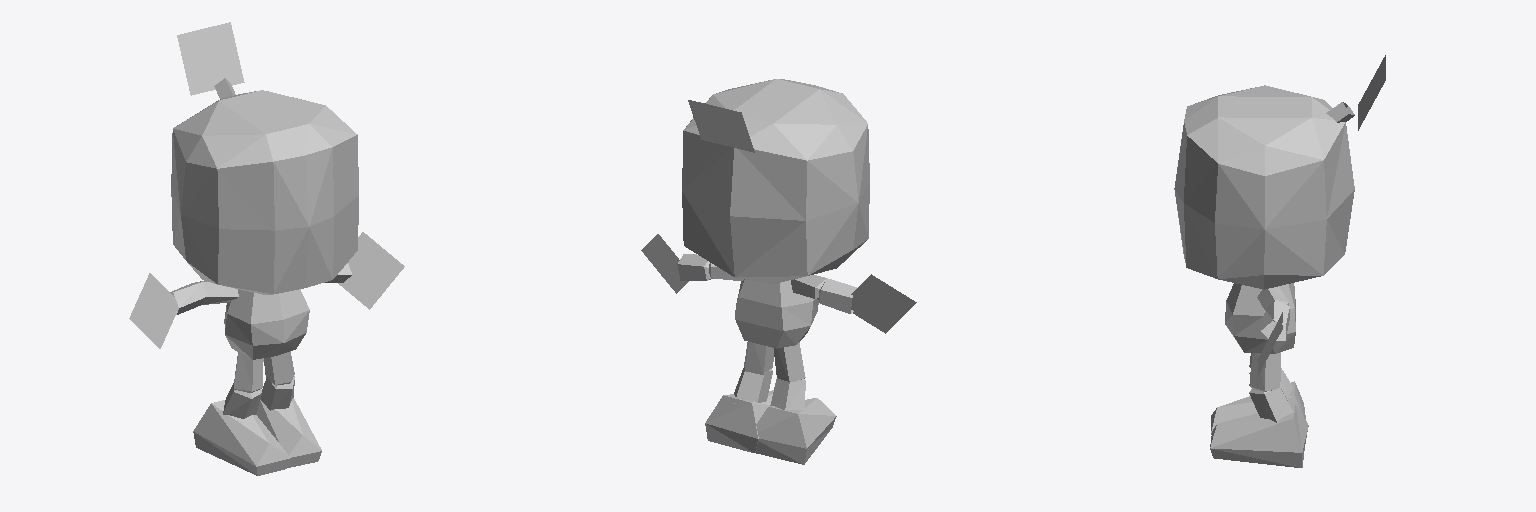
The model's file is Bomberman (Hero 64).obj.
3 renders of one model, left to right at view 1: azimuth 30°, elevation 25°; view 2: azimuth 150°, elevation 25°; view 3: azimuth 270°, elevation 25°, orthographic.
Parts seen in each view (by area): view 1: ShapeIndexedFaceS.003; view 2: ShapeIndexedFaceS.003; view 3: ShapeIndexedFaceS.003.
Part boxes in pixels (left/top/right/bottom): ShapeIndexedFaceS.003: left=129, top=22, right=404, bottom=475; ShapeIndexedFaceS.003: left=641, top=79, right=916, bottom=464; ShapeIndexedFaceS.003: left=1174, top=55, right=1385, bottom=467.
Size of the model in its own units: 2.18 by 2.85 by 1.45.